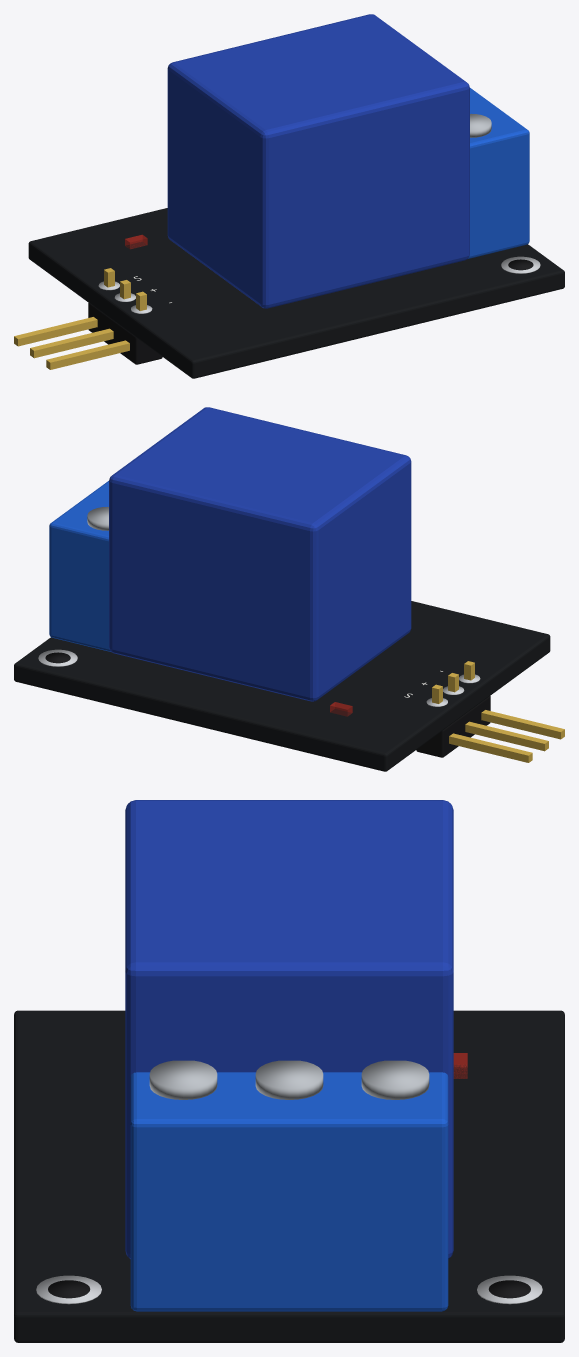
The model's file is relay-module.glb.
3 renders of one model, top to bottom at view 1: azimuth 30°, elevation 25°; view 2: azimuth 150°, elevation 25°; view 3: azimuth 270°, elevation 25°, orthographic. The views are drawn at different scales.
Visible parts, largest first — view 1: part.089, pcb.033, part.090, header.033, pin_h.112, pin_h.114, pin_h.113, part.091; view 2: part.089, pcb.033, part.090, header.033, pin_h.112, pin_h.114, pin_h.113, part.093; view 3: part.089, pcb.033, part.090, part.092, part.091, part.093, hole_ring.057, hole_ring.058.
Part boxes in pixels (x1,y1,x2,y2): part.089: [167, 14, 469, 308]; pcb.033: [28, 208, 564, 378]; part.090: [468, 88, 529, 258]; header.033: [88, 303, 162, 364]; pin_h.112: [14, 317, 97, 346]; pin_h.114: [46, 340, 129, 369]; pin_h.113: [30, 328, 113, 358]; part.091: [470, 113, 491, 137]; part.089: [109, 407, 411, 701]; pcb.033: [14, 601, 550, 771]; part.090: [49, 481, 110, 651]; header.033: [416, 696, 490, 757]; pin_h.112: [449, 733, 532, 762]; pin_h.114: [481, 710, 564, 739]; pin_h.113: [465, 721, 548, 751]; part.093: [87, 506, 108, 530]; part.089: [125, 800, 453, 1258]; pcb.033: [14, 1010, 564, 1342]; part.090: [130, 1072, 448, 1311]; part.092: [255, 1060, 323, 1099]; part.091: [149, 1060, 217, 1099]; part.093: [361, 1060, 429, 1099]; hole_ring.057: [477, 1275, 542, 1304]; hole_ring.058: [36, 1275, 101, 1304].
Size of the model in its own units: 0.0411 by 0.0196 by 0.026.
